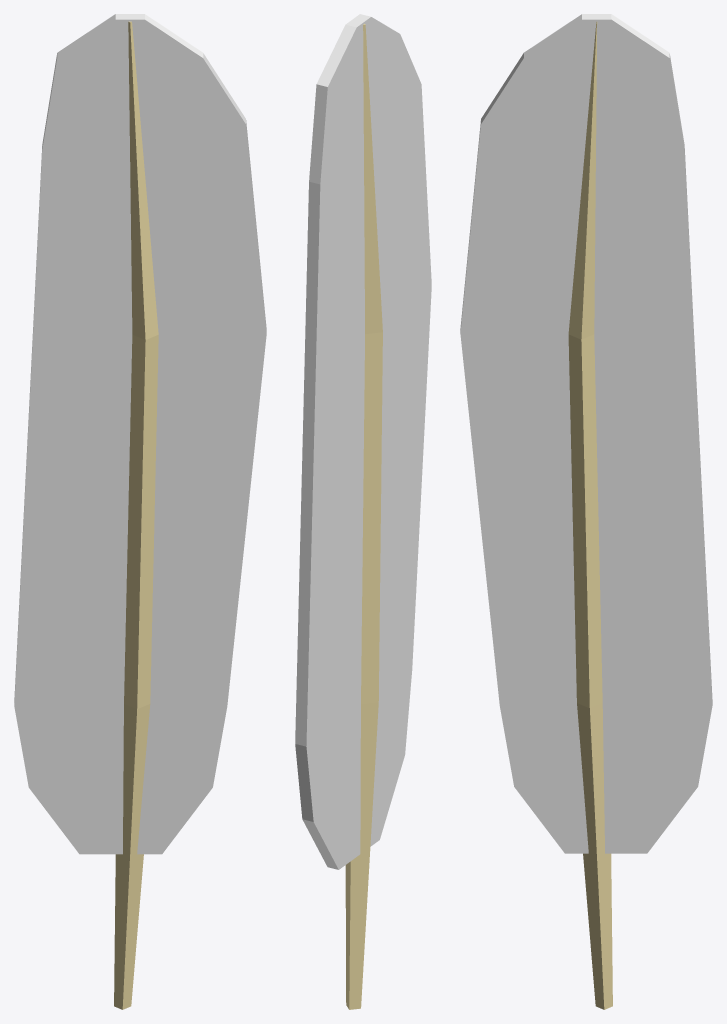
The model's file is fether.glb.
3 views of the same model, side by side, from view 1: azimuth 90°, elevation 25°; view 2: azimuth 150°, elevation 25°; view 3: azimuth 270°, elevation 25° (orthographic).
Visible parts, largest first — view 1: Plane; view 2: Plane; view 3: Plane.
Part boxes in pixels (bbox=[...]): Plane: bbox=[14, 14, 266, 1009]; Plane: bbox=[295, 14, 431, 1009]; Plane: bbox=[460, 14, 712, 1009].
Size of the model in its own units: 0.3385 by 9.43 by 2.18.
1 material, 1 textured.
